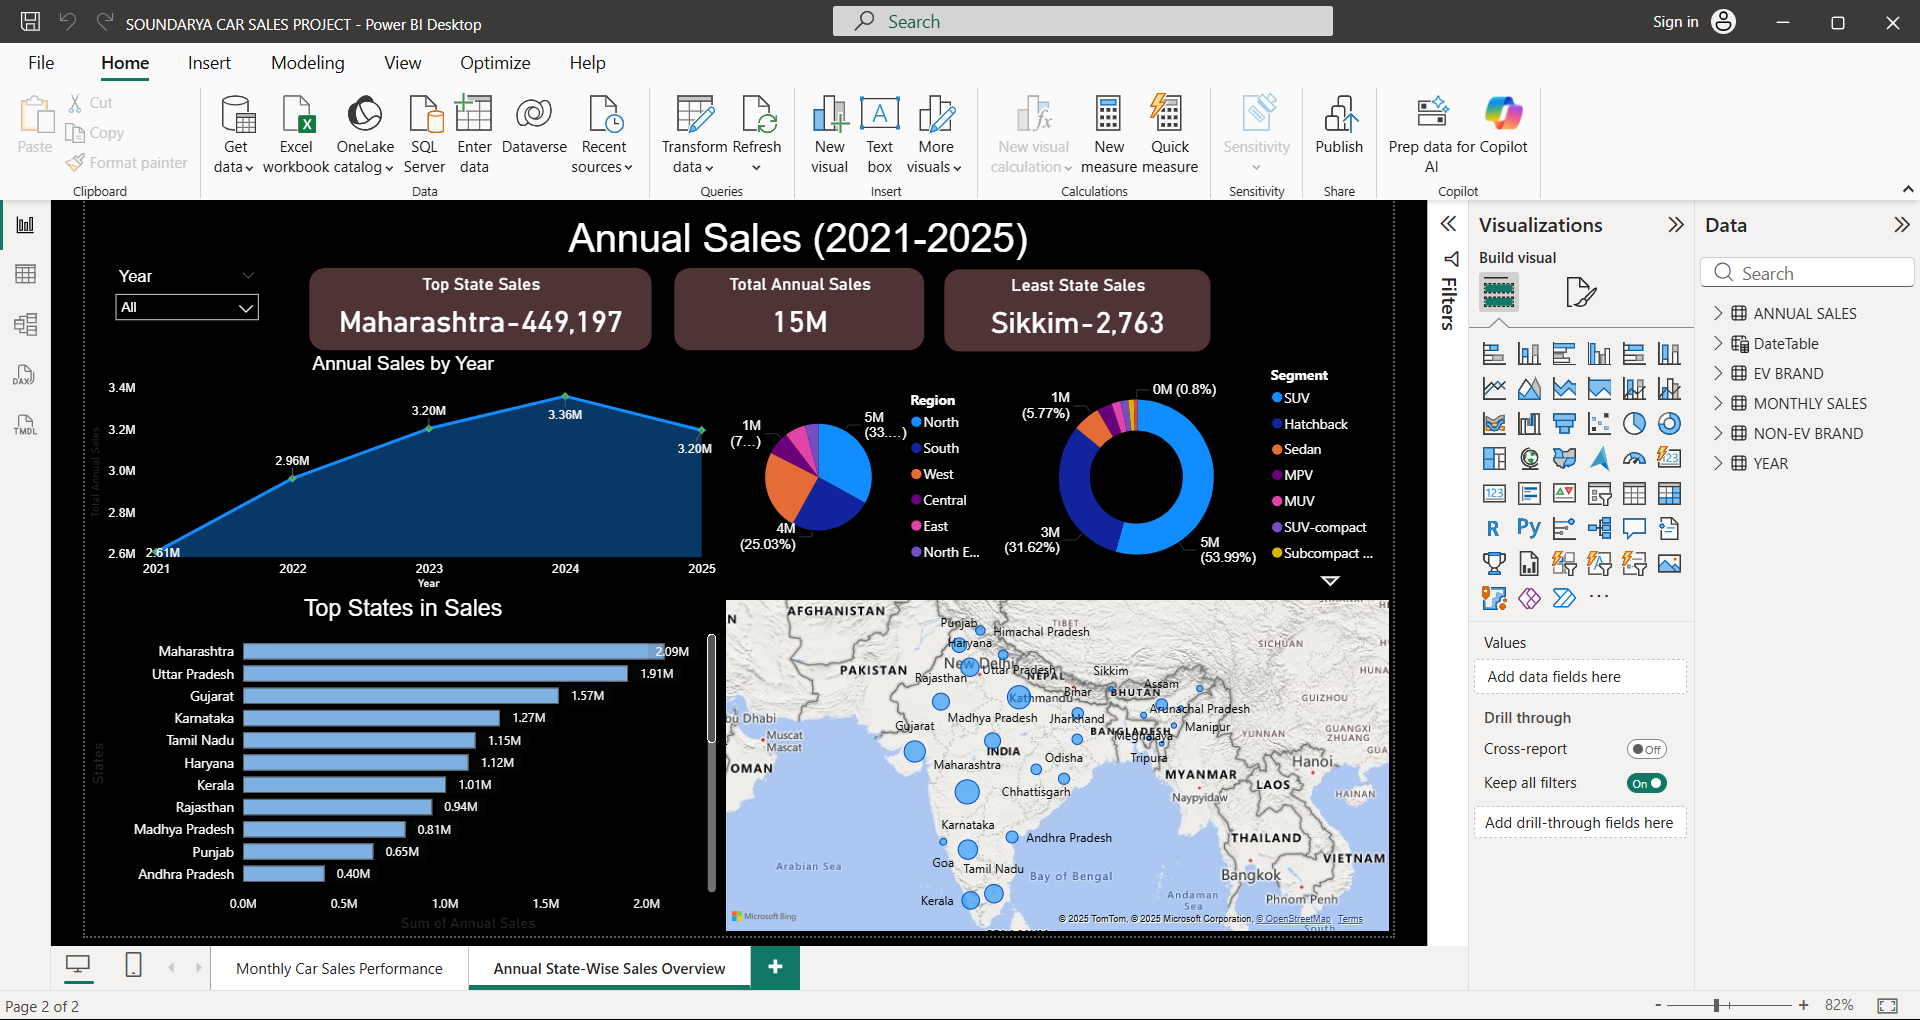

The dashboard page shown, as its layout file describes it:
{"tool":"powerbi","page":{"name":"Annual  State-Wise Sales Overview","canvas":[1280,720],"ordinal":1},"visuals":[{"type":"donutChart","fields":{"Category":["MONTHLY SALES.Segment"],"Y":["Sum(MONTHLY SALES.Monthly Sales)"]},"box":[891.4,156.5,388.9,229.9],"z":0},{"type":"pieChart","fields":{"Category":["ANNUAL SALES.Region"],"Y":["Sum(ANNUAL SALES.Annual Sales)"]},"box":[622.4,156.5,269,229.9],"z":1000},{"type":"map","fields":{"Category":["ANNUAL SALES.States"],"Size":["Sum(ANNUAL SALES.Annual Sales)"]},"box":[622.4,386.4,657.9,333.8],"z":2000},{"type":"barChart","title":"Top States in Sales","fields":{"Category":["ANNUAL SALES.States"],"Y":["Sum(ANNUAL SALES.Annual Sales)"]},"box":[0,386.4,622.4,333.8],"z":3000},{"type":"lineChart","title":"Annual Sales by Year","fields":{"Category":["YEAR.Year"],"Y":["ANNUAL SALES.Total Annual Sales"]},"box":[0,149.2,622.4,237.2],"z":4000},{"type":"slicer","fields":{"Values":["YEAR.Year"]},"box":[19.6,59.9,160.2,88],"z":5000},{"type":"shape","title":"Annual Sales (2021-2025)","box":[439,14.7,517.3,63.6],"z":6000},{"type":"card","title":"Top State Sales","fields":{"Values":["ANNUAL SALES.Top State Summary"]},"box":[218.9,66,336.3,81.9],"z":7000},{"type":"card","title":"Least State Sales","fields":{"Values":["ANNUAL SALES.Bottom State Summary"]},"box":[840.1,67.3,261.7,81.9],"z":8000},{"type":"card","title":"Total Annual Sales","fields":{"Values":["ANNUAL SALES.Total Annual Sales"]},"box":[576,66,245.8,81.9],"z":9000}]}

Visuals, with their boxes on the page's 1280x720 design canvas (x1, y1, x2, y2). These are canvas units, not pixel positions in the 1920x1020 screenshot, which may show the page scaled, cropped or inside an application window:
donutChart - MONTHLY SALES.Segment x Sum(MONTHLY SALES.Monthly Sales): [x1=891, y1=156, x2=1280, y2=386]
pieChart - ANNUAL SALES.Region x Sum(ANNUAL SALES.Annual Sales): [x1=622, y1=156, x2=891, y2=386]
map - ANNUAL SALES.States x Sum(ANNUAL SALES.Annual Sales): [x1=622, y1=386, x2=1280, y2=720]
"Top States in Sales" barChart: [x1=0, y1=386, x2=622, y2=720]
"Annual Sales by Year" lineChart: [x1=0, y1=149, x2=622, y2=386]
slicer - YEAR.Year: [x1=20, y1=60, x2=180, y2=148]
"Annual Sales (2021-2025)" shape: [x1=439, y1=15, x2=956, y2=78]
"Top State Sales" card: [x1=219, y1=66, x2=555, y2=148]
"Least State Sales" card: [x1=840, y1=67, x2=1102, y2=149]
"Total Annual Sales" card: [x1=576, y1=66, x2=822, y2=148]
